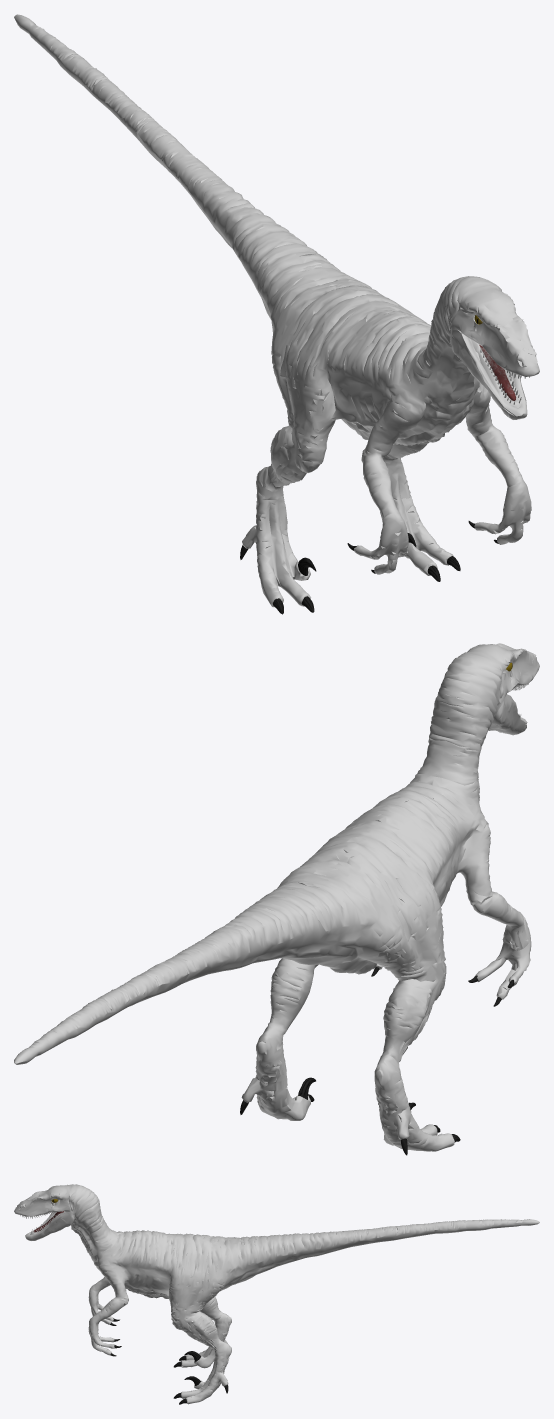
3 renders of one model, top to bottom at view 1: azimuth 30°, elevation 25°; view 2: azimuth 150°, elevation 25°; view 3: azimuth 270°, elevation 25°, orthographic. The views are drawn at different scales.
Parts seen in each view (by area): view 1: BODY, CLAW; view 2: BODY, CLAW; view 3: BODY, CLAW.
Part boxes in pixels (x1,y1,x2,y2): BODY: [14, 14, 539, 607]; CLAW: [240, 521, 498, 614]; BODY: [14, 643, 539, 1151]; CLAW: [240, 967, 514, 1155]; BODY: [14, 1184, 539, 1404]; CLAW: [110, 1318, 228, 1404].
Bounding box in the file's own units: 0.8753 × 1.76 × 4.27.
